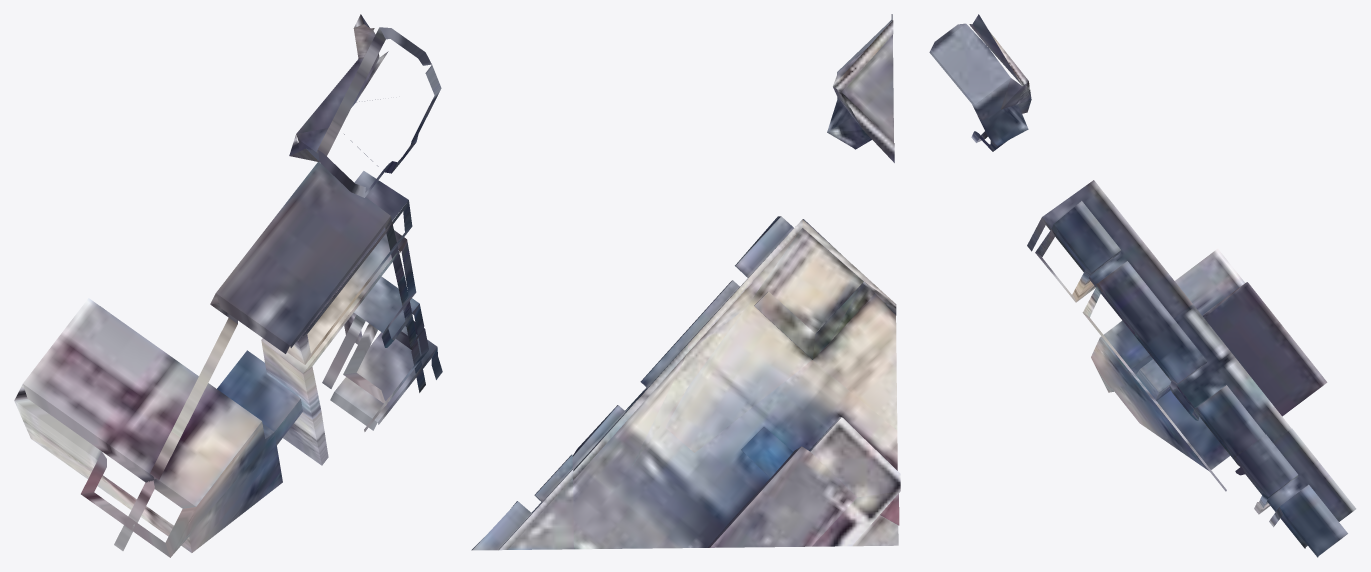
The picture shows the model from 3 angles, left to right: view 1: azimuth 30°, elevation 25°; view 2: azimuth 150°, elevation 25°; view 3: azimuth 270°, elevation 25°; orthographic projection. The views are drawn at different scales.
Size of the model in its own units: 23.08 by 27.36 by 24.2.
Materials: 1 (1 with a texture image).
